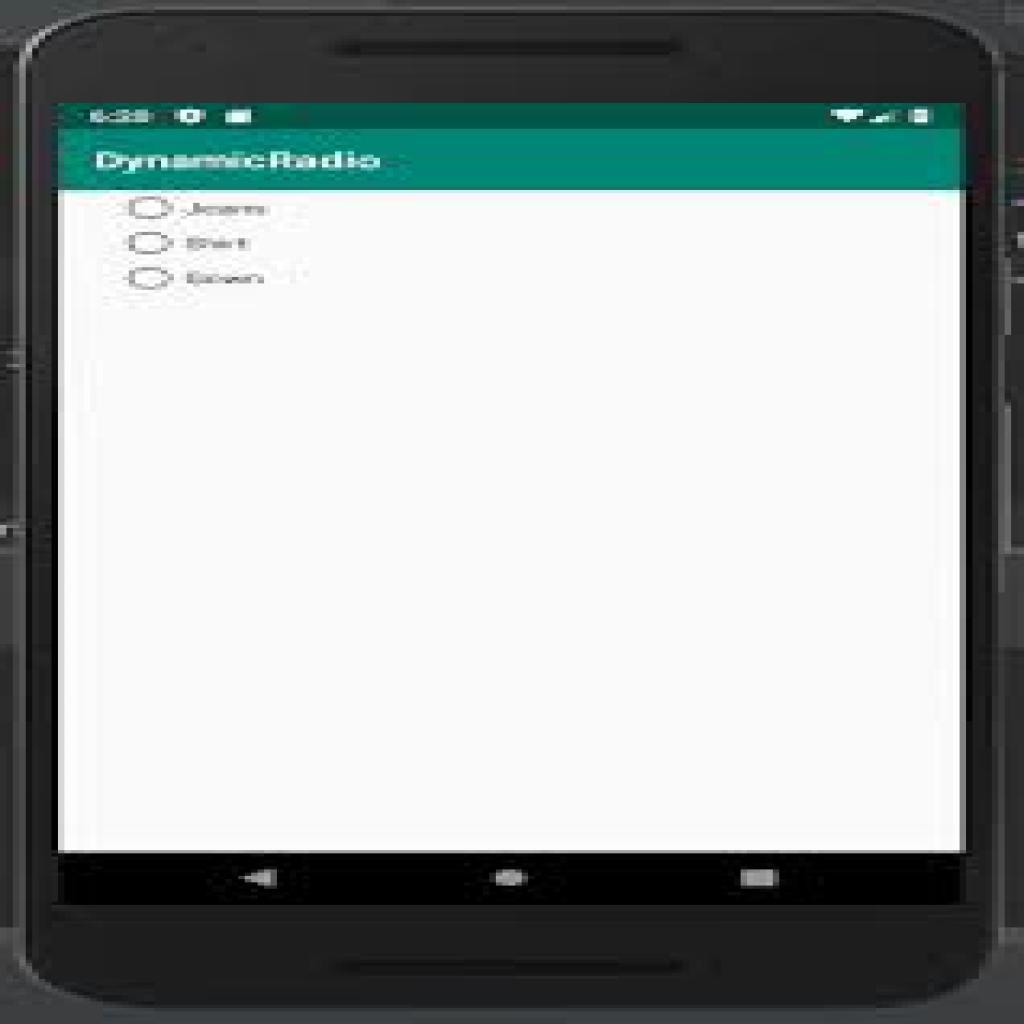icon: (493, 865, 536, 894), (240, 866, 280, 894), (740, 866, 782, 891)
label: (94, 150, 383, 176), (187, 264, 273, 291), (183, 197, 271, 221), (186, 233, 257, 257)
radio: (120, 263, 175, 291), (126, 195, 177, 223), (122, 230, 179, 255)
